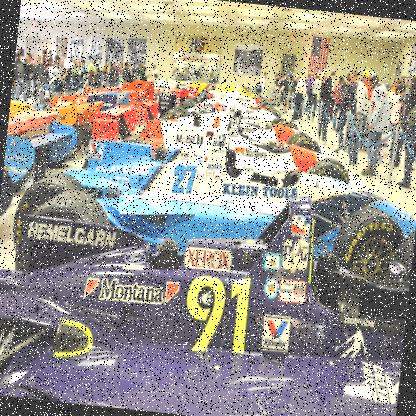Car: (0, 62, 415, 415)
